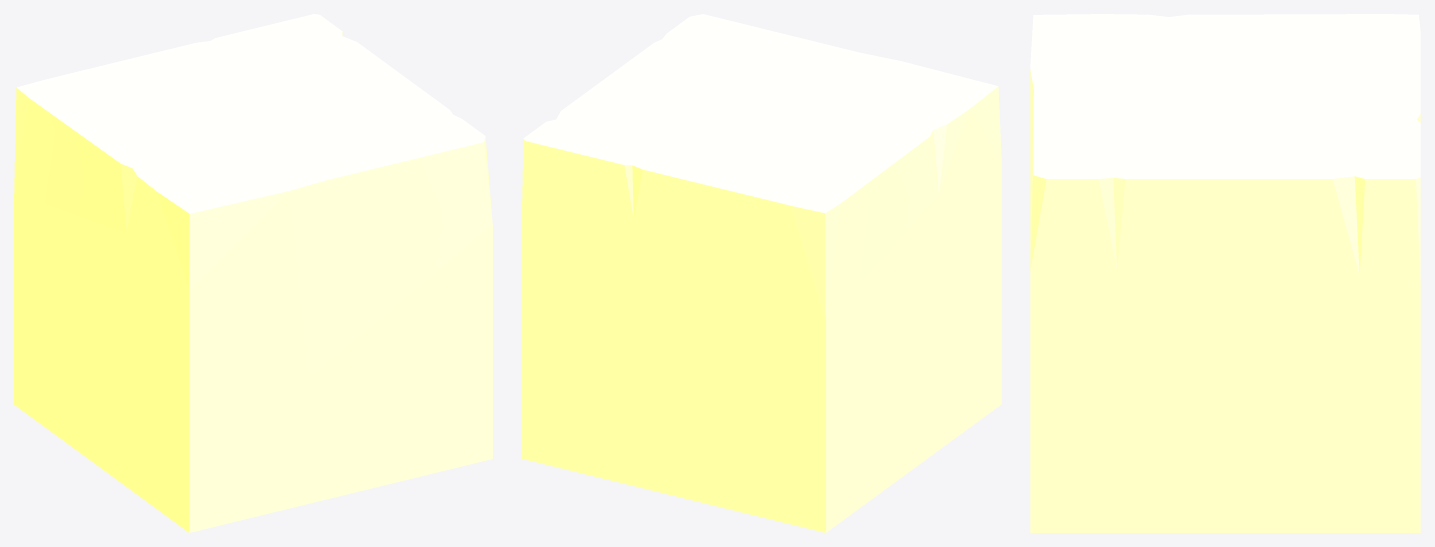
Rendered from YellowBox.glb.
3 views of the same model, side by side, from view 1: azimuth 30°, elevation 25°; view 2: azimuth 150°, elevation 25°; view 3: azimuth 270°, elevation 25° (orthographic). The views are drawn at different scales.
Visible parts, largest first — view 1: SM_PolygonPrototype_Buildings_Floor_5x5_01P; view 2: SM_PolygonPrototype_Buildings_Floor_5x5_01P; view 3: SM_PolygonPrototype_Buildings_Floor_5x5_01P.
Part boxes in pixels (x1,y1,x2,y2): SM_PolygonPrototype_Buildings_Floor_5x5_01P: (14,14,492,532); SM_PolygonPrototype_Buildings_Floor_5x5_01P: (521,14,1001,532); SM_PolygonPrototype_Buildings_Floor_5x5_01P: (1030,14,1420,532).
Bounding box in the file's own units: 1 × 1 × 1.
